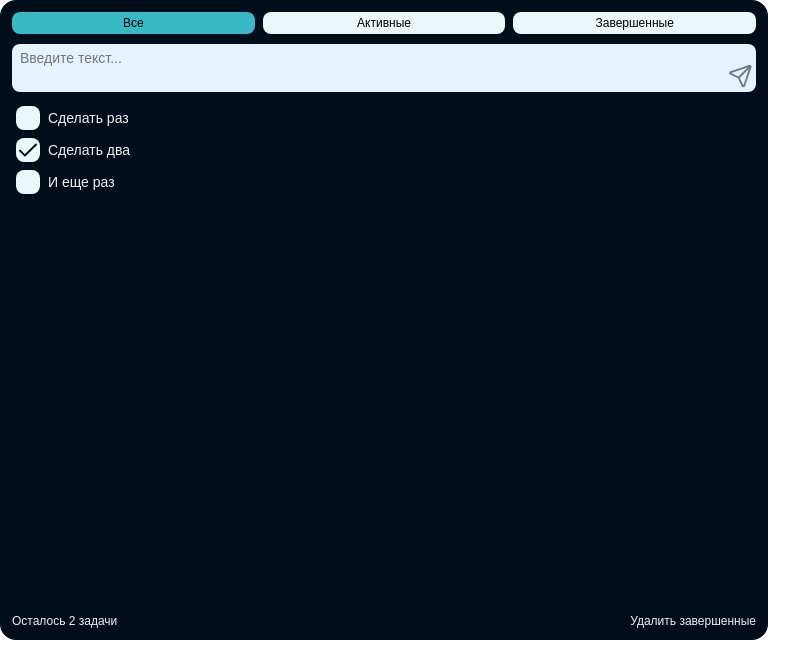
Scenario: Todo App › удаляет завершенные задачи по кнопке
This screenshot has width=785, height=657.
Type "Очистить меня" into the text box with placeholder "Введите текст..." at (369, 68), box [12,44,725,92]
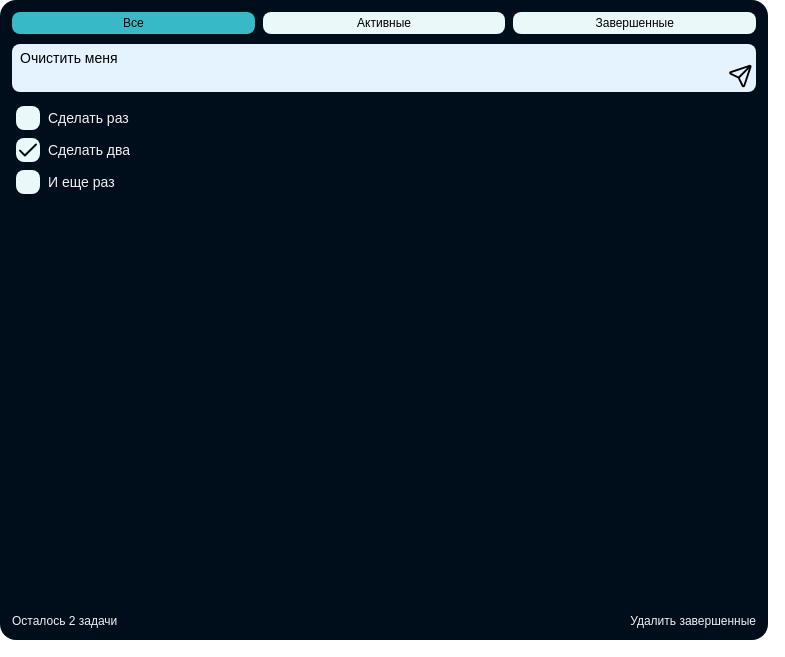
Click the button named "создать задачу" at (741, 76), box [725,60,756,92]
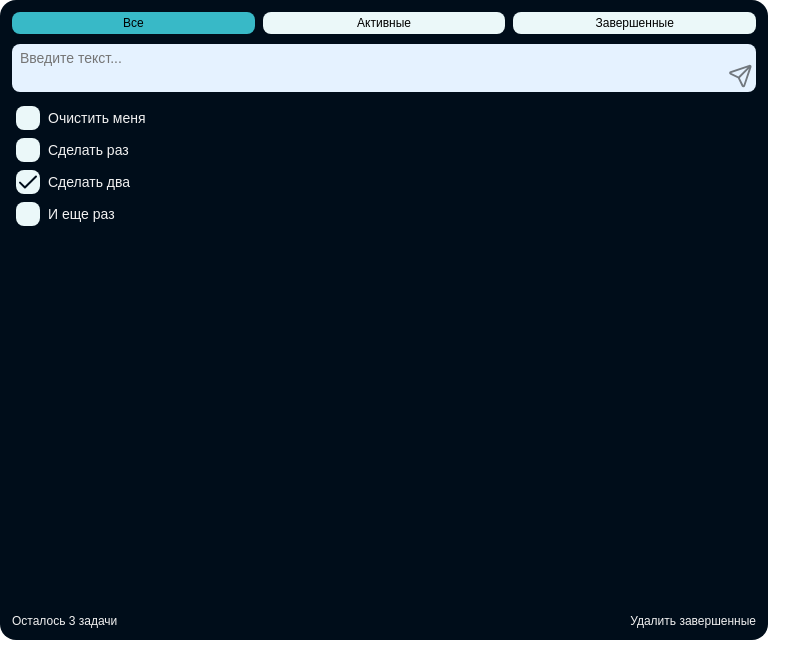
Click the checkbox next to "Очистить меня" at (28, 118), box [16,106,40,130]
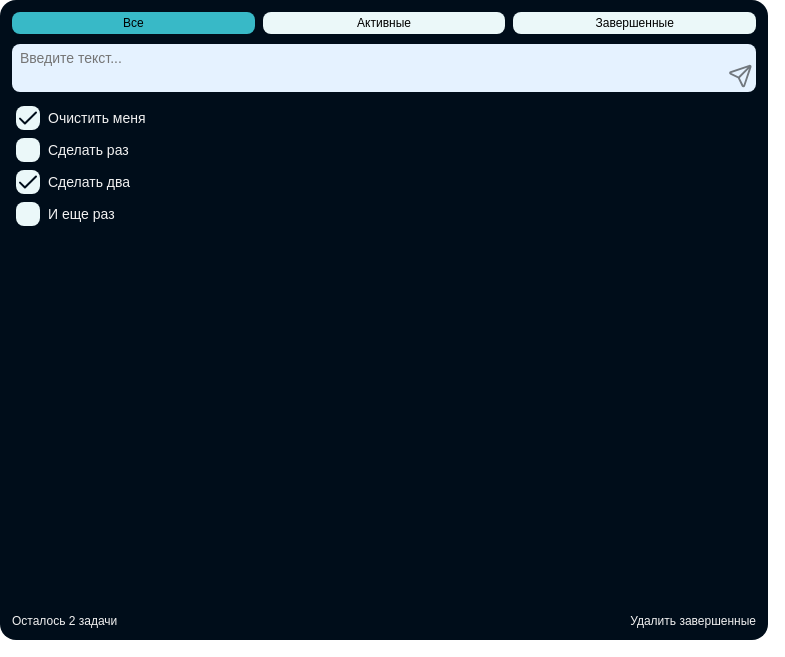
Expected: the checkbox next to "Очистить меня" is checked, [16,106,40,130]
Click the button "Удалить завершенные" at (693, 621), box [630,614,756,628]
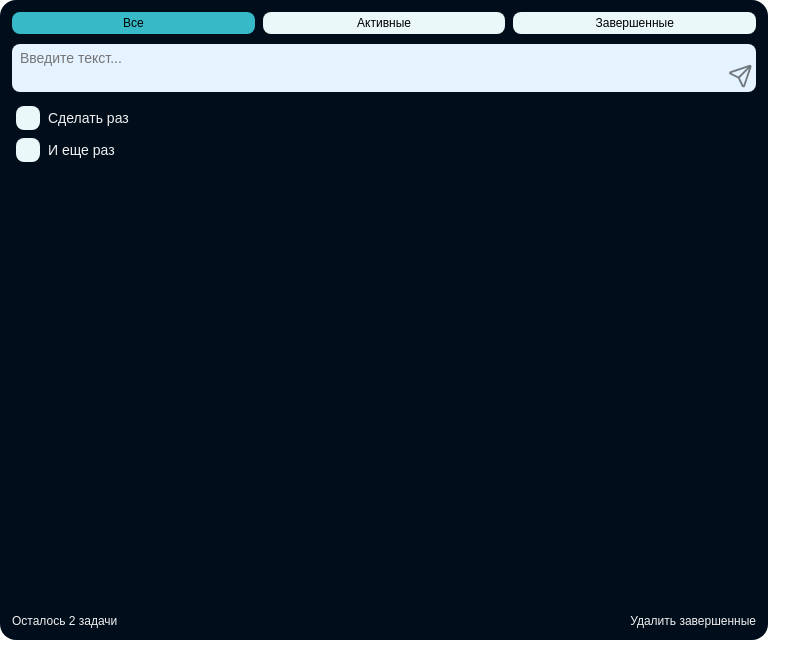
Expected: the text "Очистить меня" is gone
